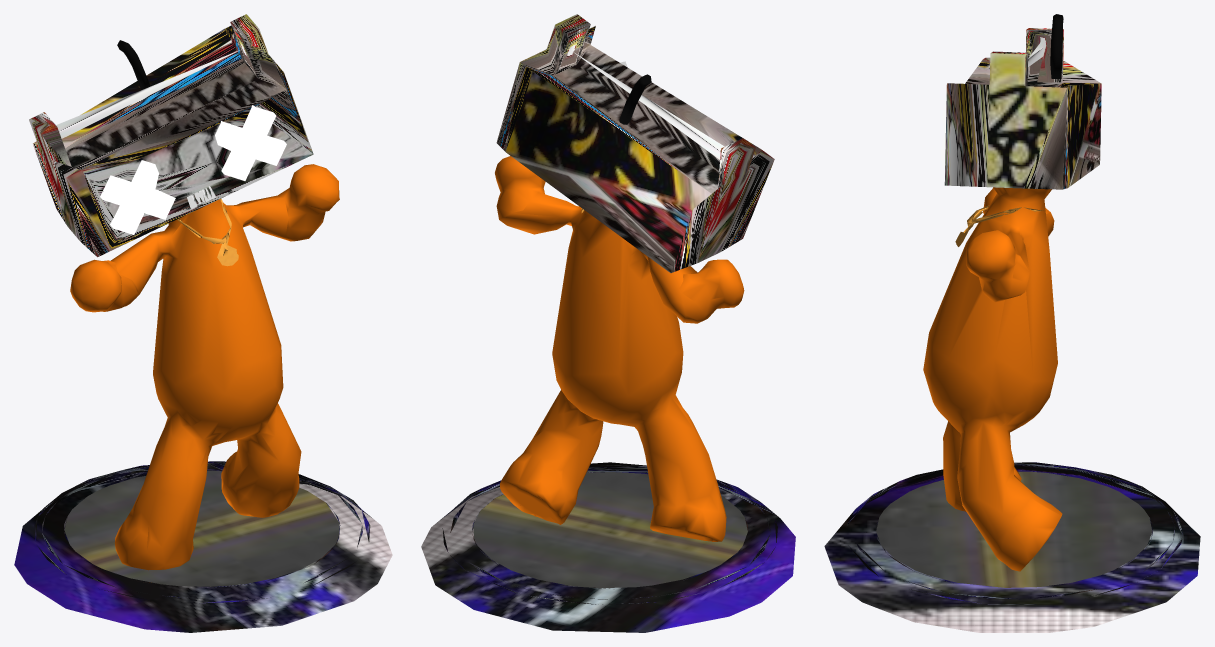
3 renders of one model, left to right at view 1: azimuth 30°, elevation 25°; view 2: azimuth 150°, elevation 25°; view 3: azimuth 270°, elevation 25°, orthographic.
Size of the model in its own units: 1.43 by 2.19 by 1.43.
Materials: 8 (4 with a texture image).
